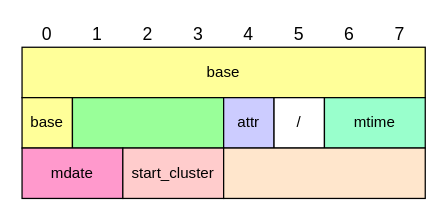
This 447x221 diagram has some shape labels left out. Each missing label, with the centre of its shape:
"ext" goes at point (147, 122).
"size" goes at point (323, 172).
